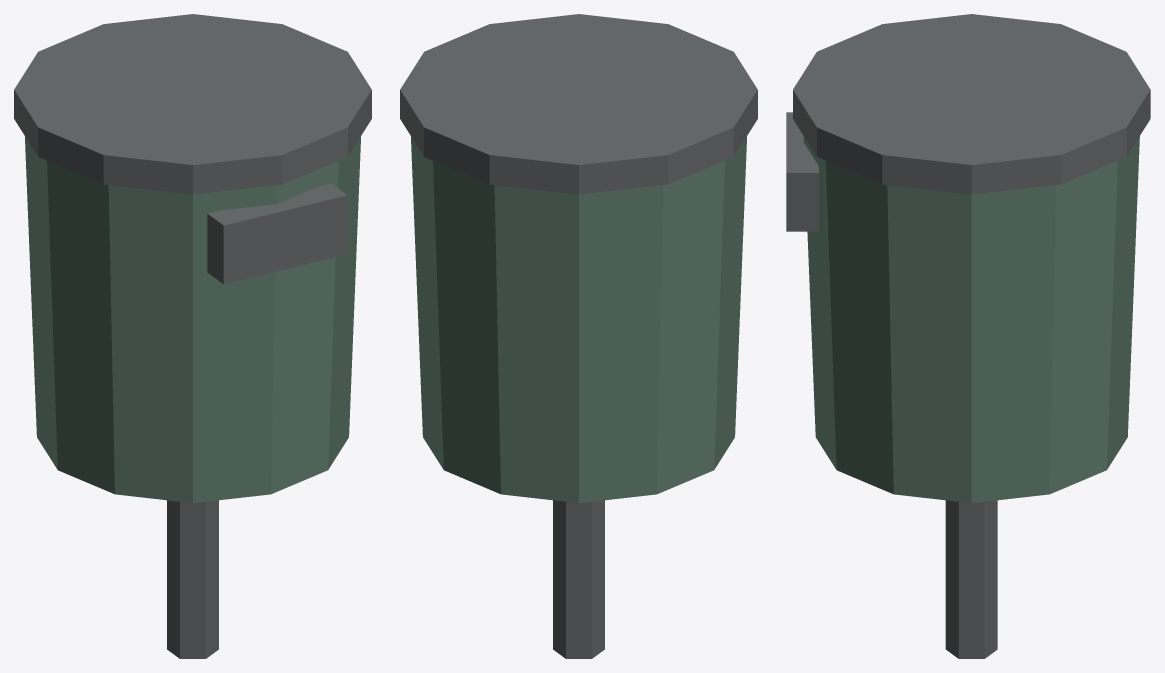
Rendered from bin-street.glb.
The picture shows the model from 3 angles, left to right: view 1: azimuth 30°, elevation 25°; view 2: azimuth 150°, elevation 25°; view 3: azimuth 270°, elevation 25°; orthographic projection.
Parts seen in each view (by area): view 1: bin-street; view 2: bin-street; view 3: bin-street.
Boxes of the visible parts, x1,y1,x2,y2 form: bin-street: [14, 14, 371, 658]; bin-street: [400, 14, 757, 658]; bin-street: [786, 14, 1150, 658].
Size of the model in its own units: 0.55 by 0.95 by 0.56.
